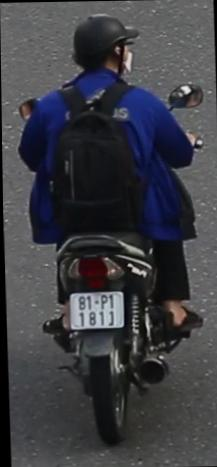LP: (66, 285, 127, 331)
helmet: (68, 11, 131, 86)
